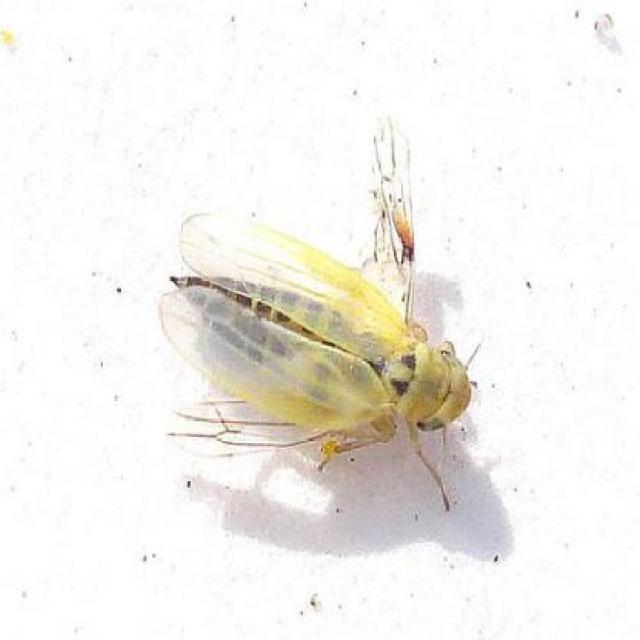green-leafhopper: (172, 180, 474, 480)
